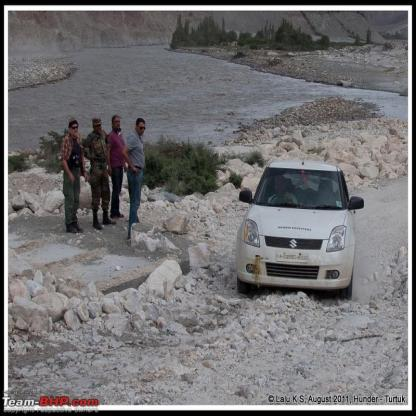light_vehicle: (231, 142, 376, 314)
person: (121, 114, 149, 244), (83, 111, 112, 231), (58, 113, 85, 238), (109, 108, 123, 224)
